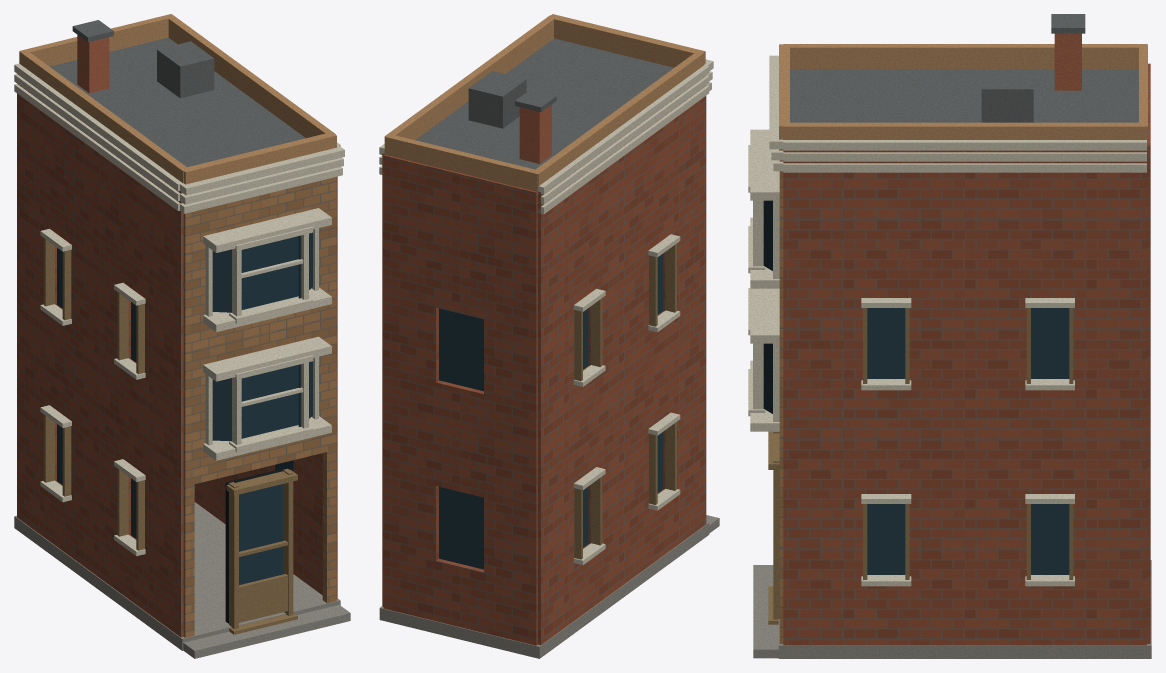
The model's file is RUNDWN14_lod2.glb.
3 renders of one model, left to right at view 1: azimuth 30°, elevation 25°; view 2: azimuth 150°, elevation 25°; view 3: azimuth 270°, elevation 25°, orthographic. The views are drawn at different scales.
Parts seen in each view (by area): view 1: RUNDWN14_LOD2; view 2: RUNDWN14_LOD2; view 3: RUNDWN14_LOD2.
Boxes of the visible parts, <box> form: RUNDWN14_LOD2: <box>14,14,350,658</box>; RUNDWN14_LOD2: <box>379,14,719,658</box>; RUNDWN14_LOD2: <box>748,14,1151,658</box>.
Bounding box in the file's own units: 3.71 × 10.45 × 6.65.
Materials: 10 (8 with a texture image).
